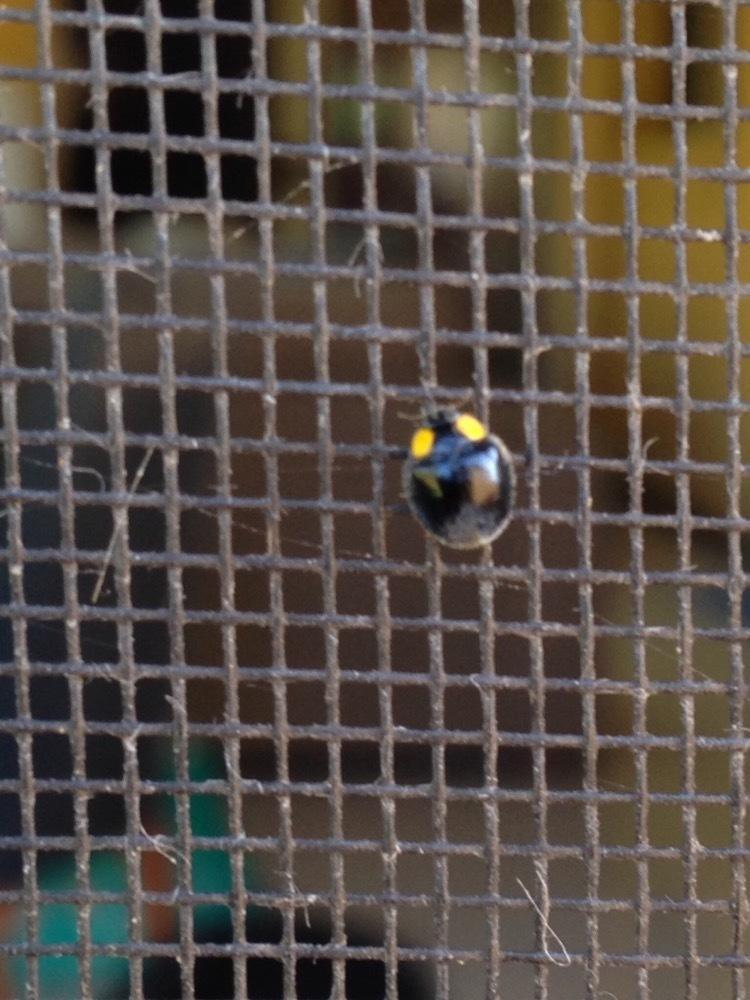ladybug: (396, 392, 525, 556)
